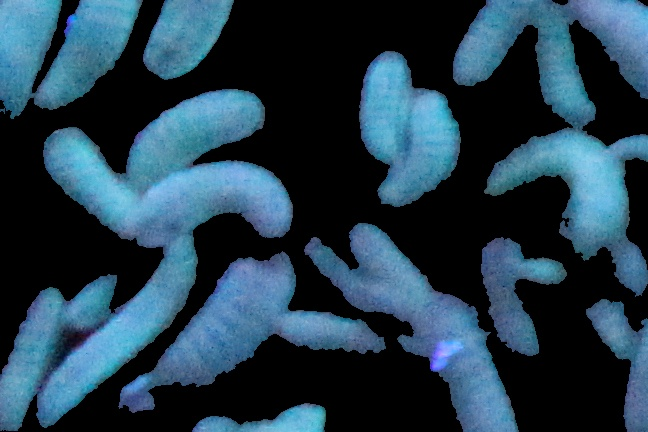larvae: (29, 248, 195, 424), (148, 244, 295, 409), (483, 129, 624, 251), (132, 139, 305, 235), (29, 1, 140, 124), (414, 297, 511, 432), (128, 86, 261, 172), (41, 127, 139, 241), (453, 1, 566, 95), (340, 35, 414, 173), (474, 234, 555, 359), (281, 303, 403, 375), (148, 1, 248, 87), (53, 255, 147, 329), (404, 91, 459, 215), (534, 12, 595, 120)
